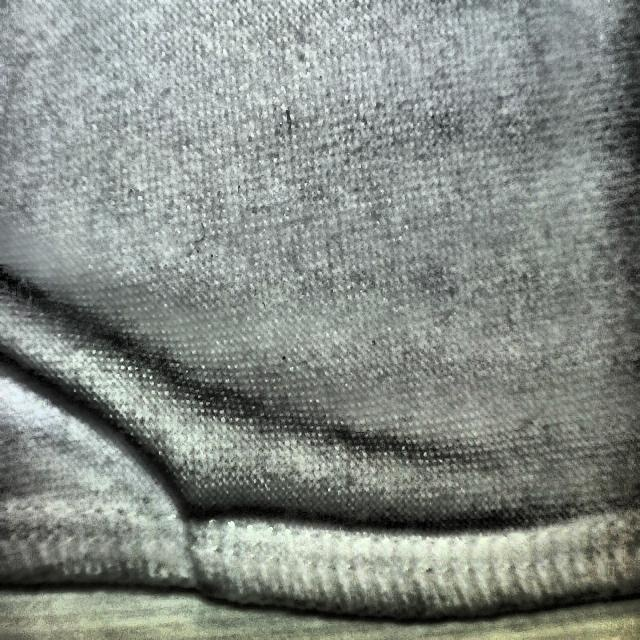seam: (62, 323, 363, 639)
